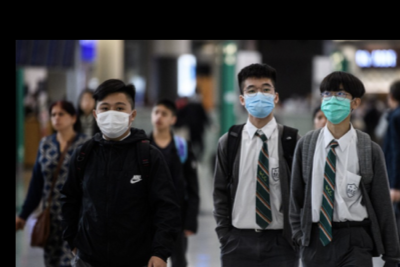with_mask: (95, 100, 131, 139), (319, 86, 354, 123), (243, 81, 275, 119)
without_mask: (150, 108, 171, 129), (50, 108, 70, 130)
